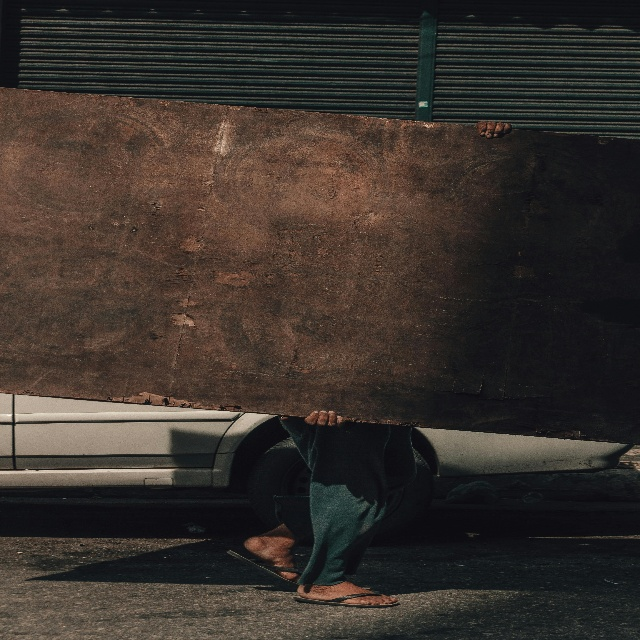Sin_guantes: (304, 409, 346, 428), (474, 120, 512, 139)
